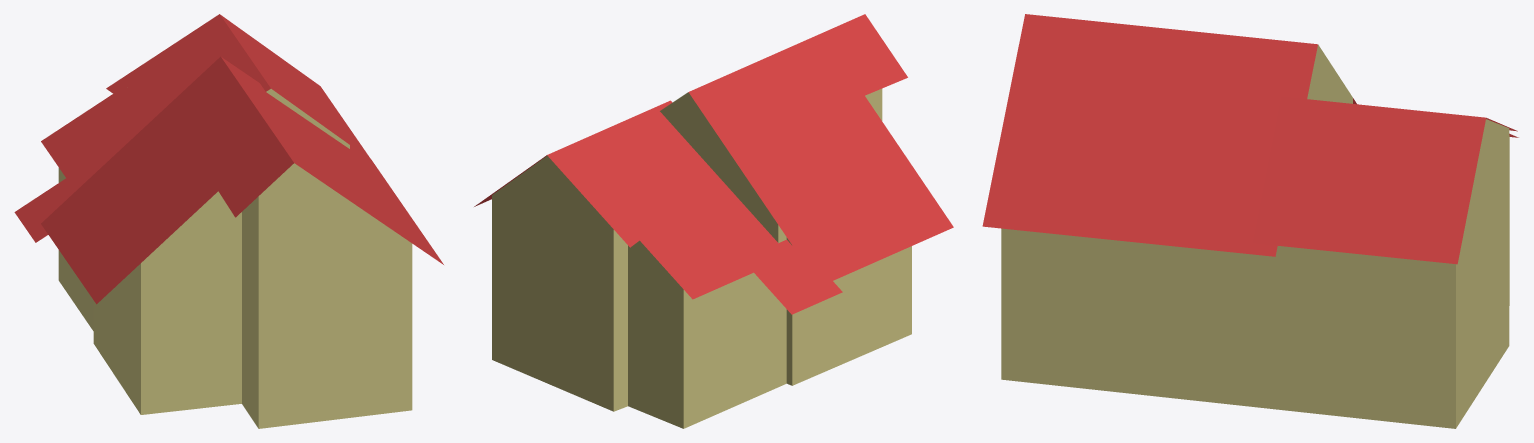
3 renders of one model, left to right at view 1: azimuth 30°, elevation 25°; view 2: azimuth 150°, elevation 25°; view 3: azimuth 270°, elevation 25°, orthographic. The views are drawn at different scales.
Bounding box in the file's own units: 21.7 × 24.48 × 15.36.
